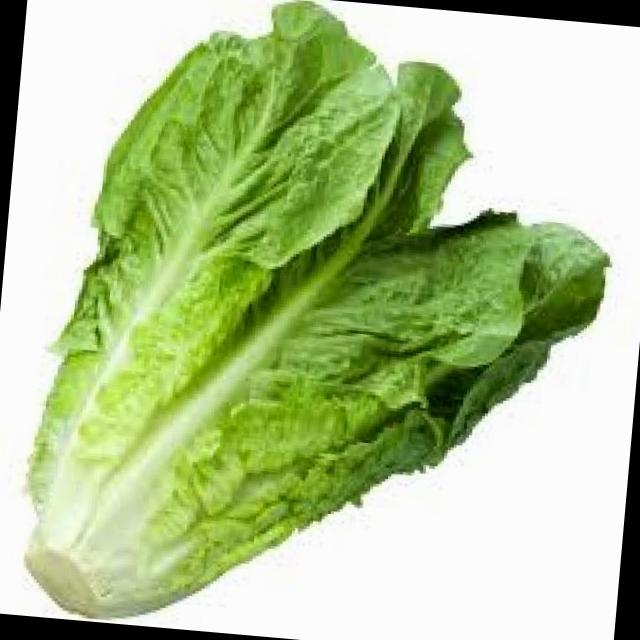Lettuce-Ready-to-Harvest: (27, 3, 607, 616)
